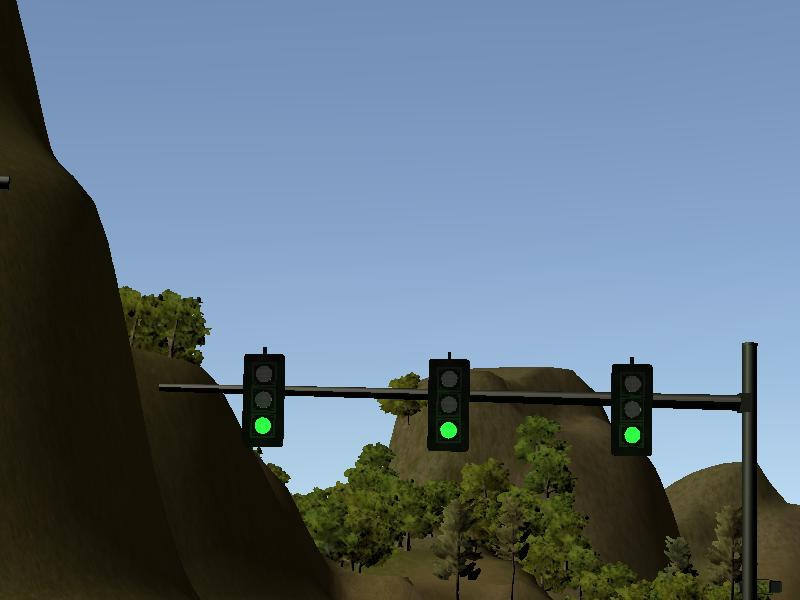Green: (243, 354, 285, 445), (430, 360, 469, 450), (613, 365, 652, 455)
